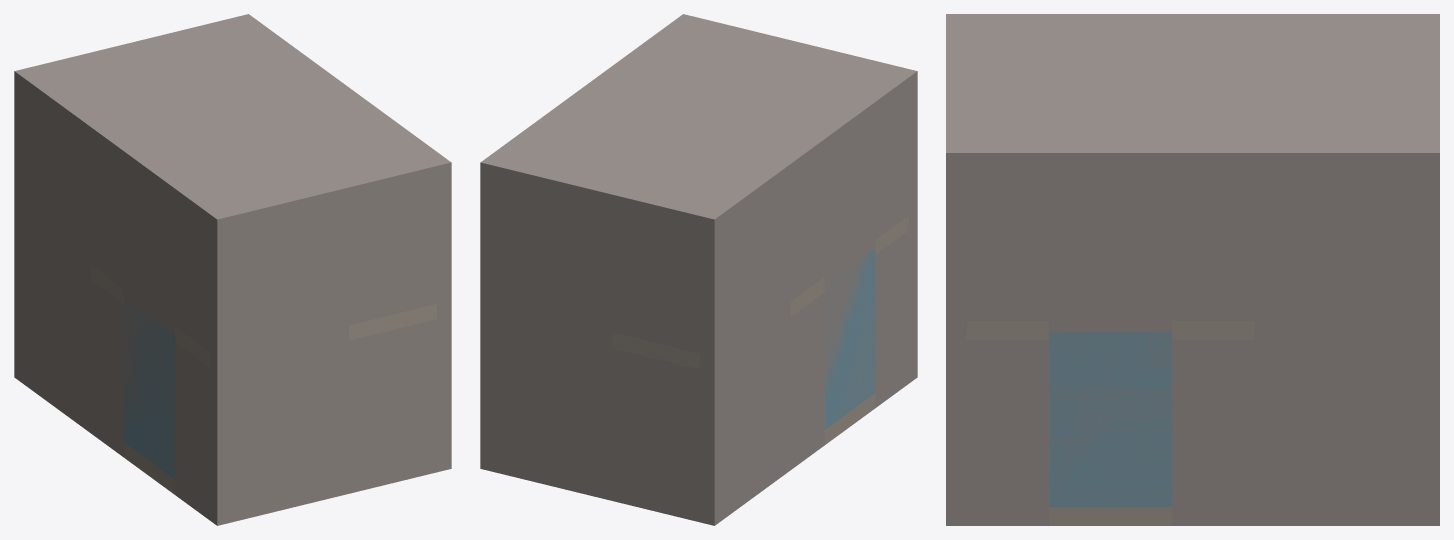
File: creek-ford.glb
3 views of the same model, side by side, from view 1: azimuth 30°, elevation 25°; view 2: azimuth 150°, elevation 25°; view 3: azimuth 270°, elevation 25° (orthographic). The views are drawn at different scales.
Visible parts, largest first — view 1: rock_33, rock_7, rock_27, rock_1, plug_creek_west, rock_20, rock_21, plug_south, water_1, plug_creek_west.001, rock_14, rock_18 (+9 smaller); view 2: rock_33, rock_2, rock_22, rock_1, rock_9, plug_creek_west, rock_21, plug_north, water_1, rock_14, rock_18, plug_creek_west.001 (+8 smaller); view 3: rock_33, plug_creek_east, water_2, rock_15, rock_19, plug_creek_east.001, rock_3, rock_6, rock_4, rock_5, rock_23, rock_26 (+10 smaller).
Boxes of the visible parts, <box> form: rock_33: <box>14,14,451,234</box>; rock_7: <box>209,325,348,525</box>; rock_27: <box>209,203,348,357</box>; rock_1: <box>14,209,90,432</box>; plug_creek_west: <box>90,158,208,350</box>; rock_20: <box>363,319,436,489</box>; rock_21: <box>14,86,90,264</box>; plug_south: <box>349,212,436,325</box>; water_1: <box>124,302,174,479</box>; plug_creek_west.001: <box>124,289,174,478</box>; rock_14: <box>90,280,124,457</box>; rock_18: <box>175,342,208,519</box>; rock_33: <box>480,14,917,234</box>; rock_2: <box>480,300,612,500</box>; rock_22: <box>480,178,612,332</box>; rock_1: <box>700,302,790,525</box>; rock_9: <box>612,348,699,522</box>; plug_creek_west: <box>790,108,908,301</box>; rock_21: <box>700,179,790,357</box>; plug_north: <box>612,240,699,353</box>; water_1: <box>824,249,875,429</box>; rock_14: <box>790,292,824,469</box>; rock_18: <box>875,231,908,407</box>; plug_creek_west.001: <box>824,240,875,421</box>; rock_33: <box>946,14,1439,171</box>; plug_creek_east: <box>966,190,1254,320</box>; water_2: <box>1049,332,1172,507</box>; rock_15: <box>1172,339,1254,525</box>; rock_19: <box>966,339,1048,525</box>; plug_creek_east.001: <box>1049,321,1172,506</box>; rock_3: <box>1378,321,1419,525</box>; rock_6: <box>1254,321,1295,525</box>; rock_4: <box>1337,321,1377,525</box>; rock_5: <box>1296,321,1336,525</box>; rock_23: <box>1378,171,1419,320</box>; rock_26: <box>1254,171,1295,320</box>.
Bounding box in the file's own units: 8 × 10 × 12.
